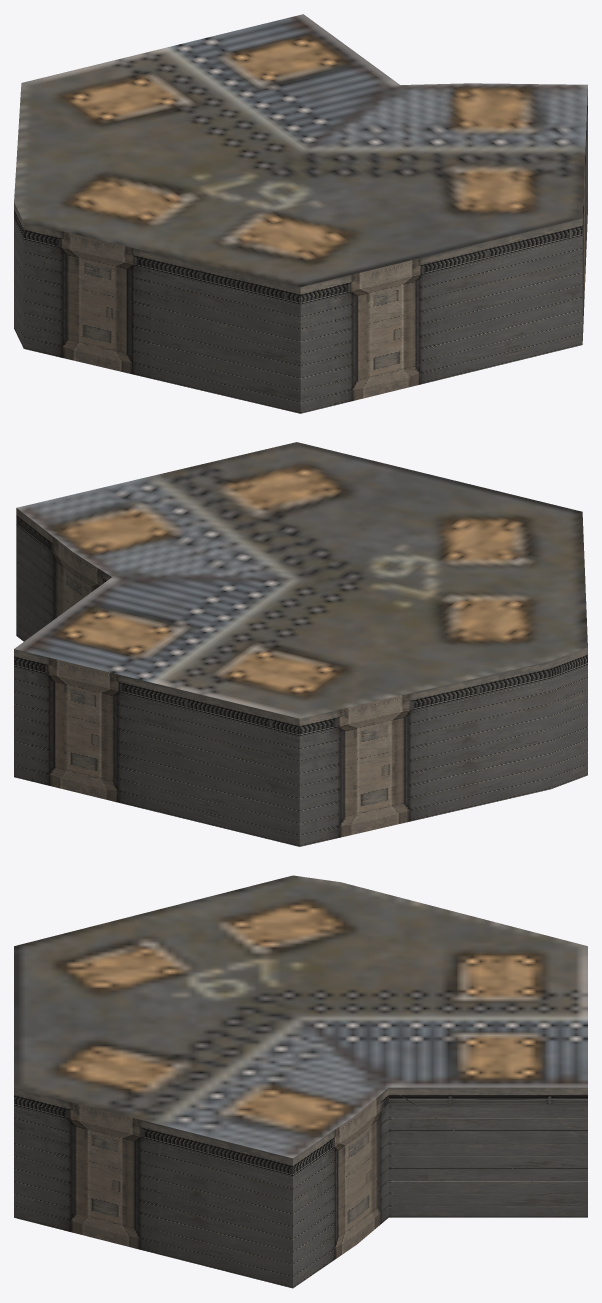
Rendered from hangar_medium_a_67.glb.
The picture shows the model from 3 angles, top to bottom: view 1: azimuth 30°, elevation 25°; view 2: azimuth 150°, elevation 25°; view 3: azimuth 270°, elevation 25°; orthographic projection. The views are drawn at different scales.
Visible parts, largest first — view 1: buildings/saxarba/hangar_medium/hangar_medium_a_67; view 2: buildings/saxarba/hangar_medium/hangar_medium_a_67; view 3: buildings/saxarba/hangar_medium/hangar_medium_a_67.
Part boxes in pixels (x1,y1,x2,y2): buildings/saxarba/hangar_medium/hangar_medium_a_67: (14, 14, 587, 413); buildings/saxarba/hangar_medium/hangar_medium_a_67: (14, 442, 587, 846); buildings/saxarba/hangar_medium/hangar_medium_a_67: (14, 875, 587, 1288).
Bounding box in the file's own units: 84 × 18 × 72.
